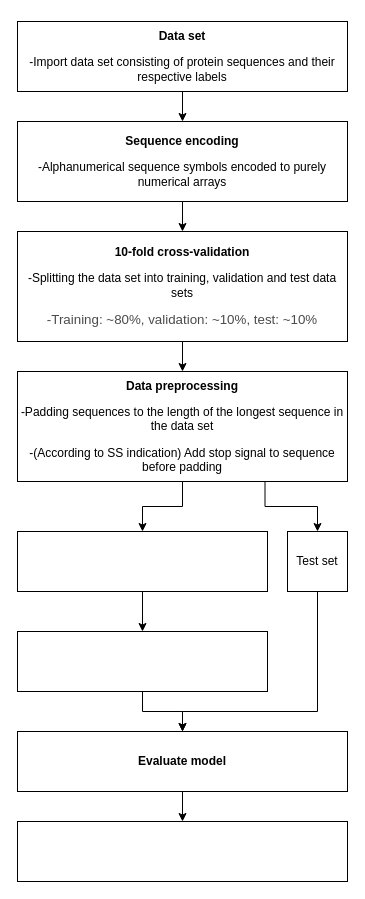
The diagram is 365 pixels wide and 899 high, and some of its shapes have lost their labels. Each missing label, with the centre of its shape:
"Average test scores (metrics: accuracy, f1, mcc, gm)" belongs at (x=182, y=851).
"Train model" belongs at (x=142, y=661).
"Training and validation set" belongs at (x=142, y=561).
